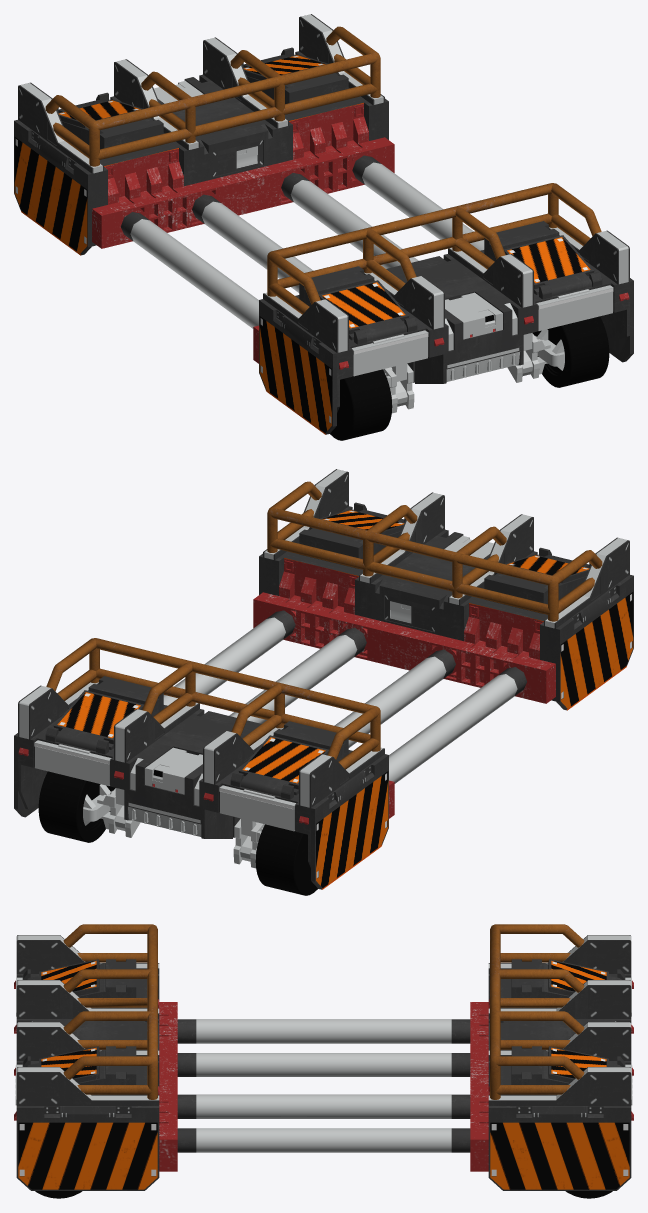
Rendered from Supplier_final (2).fbx.
3 views of the same model, one above another, from view 1: azimuth 30°, elevation 25°; view 2: azimuth 150°, elevation 25°; view 3: azimuth 270°, elevation 25° (orthographic). The views are drawn at different scales.
Visible parts, largest first — view 1: Suplier, Cover_1, Cover_2, Cover_4, Cover_3; view 2: Suplier, Cover_3, Cover_4, Cover_2, Cover_1; view 3: Suplier, Cover_1, Cover_2, Cover_3, Cover_4.
Boxes of the visible parts, bbox=[...] form: Suplier: bbox=[14, 14, 633, 440]; Cover_1: bbox=[504, 235, 594, 296]; Cover_2: bbox=[319, 280, 409, 341]; Cover_4: bbox=[58, 99, 142, 128]; Cover_3: bbox=[243, 54, 328, 80]; Suplier: bbox=[14, 469, 633, 895]; Cover_3: bbox=[53, 690, 143, 751]; Cover_4: bbox=[238, 735, 328, 796]; Cover_2: bbox=[505, 554, 589, 583]; Cover_1: bbox=[319, 509, 404, 535]; Suplier: bbox=[14, 924, 633, 1198]; Cover_1: bbox=[26, 1046, 99, 1082]; Cover_2: bbox=[26, 959, 99, 995]; Cover_3: bbox=[548, 1046, 621, 1082]; Cover_4: bbox=[548, 959, 621, 995].
Size of the model in its own units: 259 by 126 by 479.
